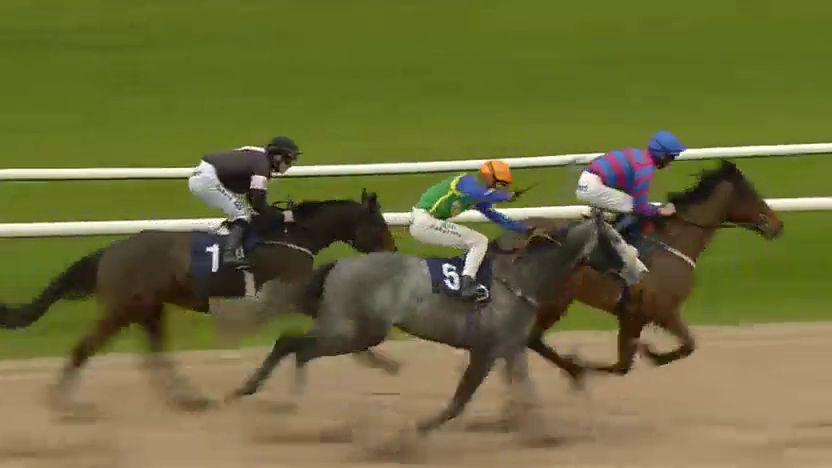jockey: (405, 160, 526, 303), (188, 134, 306, 277), (577, 131, 685, 251)
